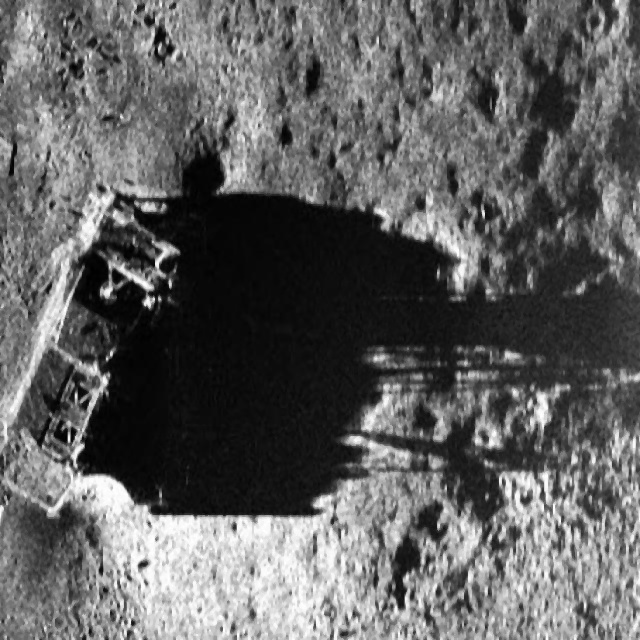Ship: (2, 178, 188, 533)
